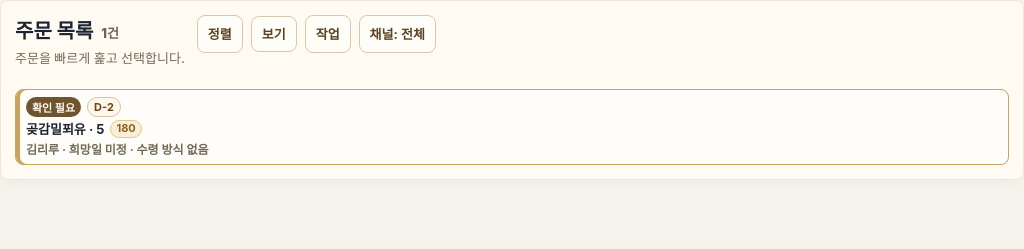
OrderList › defaults to compact list mode and hides raw text expansion
The width and height of the screenshot is (1024, 249).
Click the button "보기" at (274, 34), box [251,16,297,52]
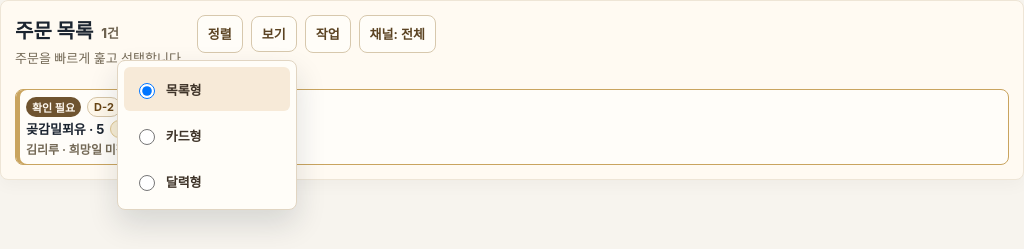
Result: the radio button labelled "목록형" is checked at [139,82,155,98]
